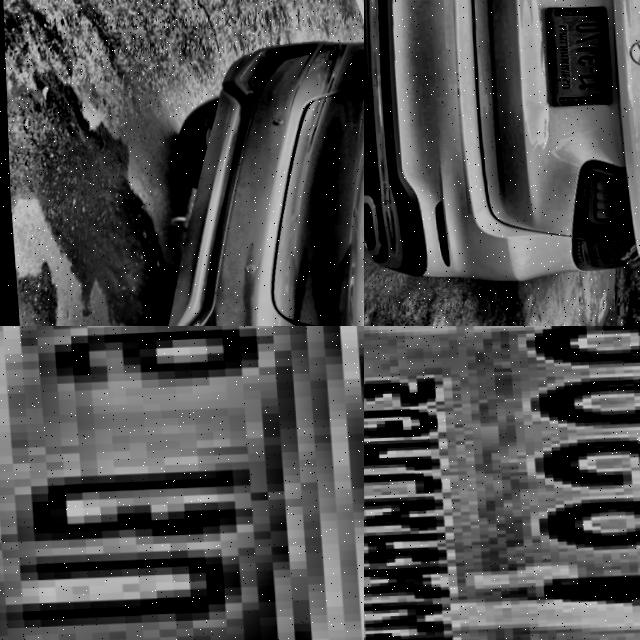license-plate: (0, 326, 364, 640), (364, 326, 640, 640), (537, 4, 614, 108)
